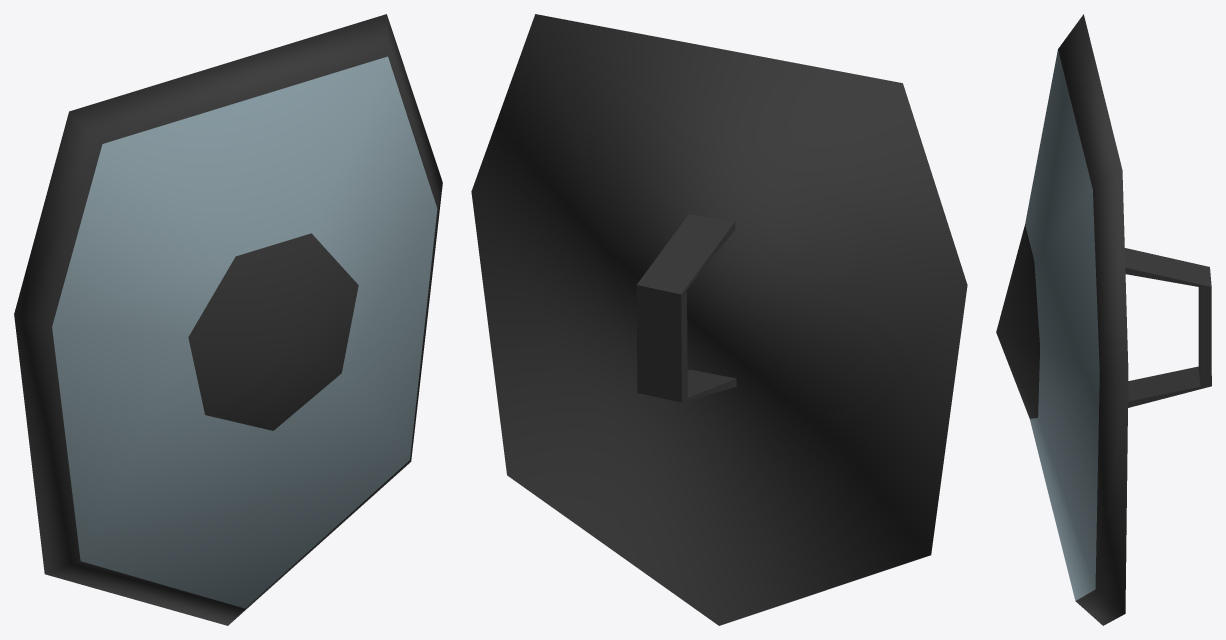
File: runite_shield.glb
3 renders of one model, left to right at view 1: azimuth 30°, elevation 25°; view 2: azimuth 150°, elevation 25°; view 3: azimuth 270°, elevation 25°, orthographic. The views are drawn at different scales.
Visible parts, largest first — view 1: Steel Shield; view 2: Steel Shield; view 3: Steel Shield.
Boxes of the visible parts, x1,y1,x2,y2 form: Steel Shield: (14,14,442,625); Steel Shield: (471,14,967,625); Steel Shield: (996,14,1211,625).
Size of the model in its own units: 0.2506 by 0.2955 by 0.1082.
